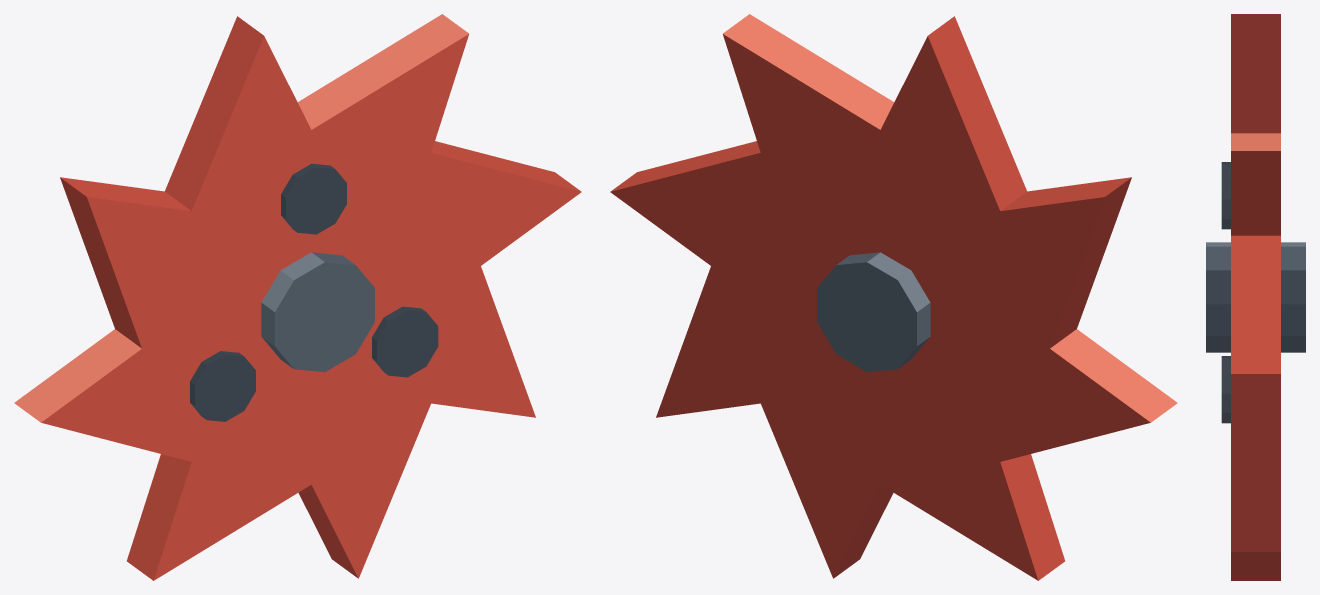
The model's file is Spikes_Saw.gltf.
The picture shows the model from 3 angles, left to right: view 1: azimuth 30°, elevation 25°; view 2: azimuth 150°, elevation 25°; view 3: azimuth 270°, elevation 25°; orthographic projection. The views are drawn at different scales.
Parts seen in each view (by area): view 1: Spikes_Saw_baked; view 2: Spikes_Saw_baked; view 3: Spikes_Saw_baked.
Boxes of the visible parts, x1=… form: Spikes_Saw_baked: x1=14, y1=14, x2=581, y2=580; Spikes_Saw_baked: x1=610, y1=14, x2=1177, y2=580; Spikes_Saw_baked: x1=1206, y1=14, x2=1305, y2=580.
Size of the model in its own units: 0.926 by 0.926 by 0.16.
